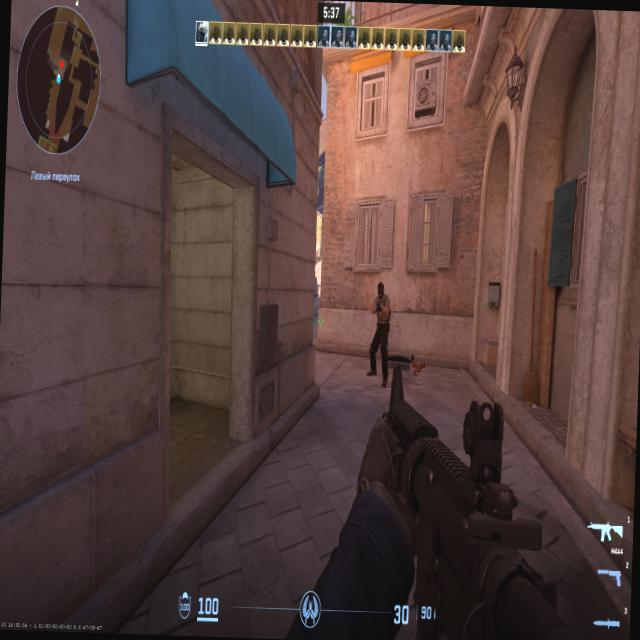T: (372, 282, 391, 381)
T_heat: (377, 278, 385, 300)
